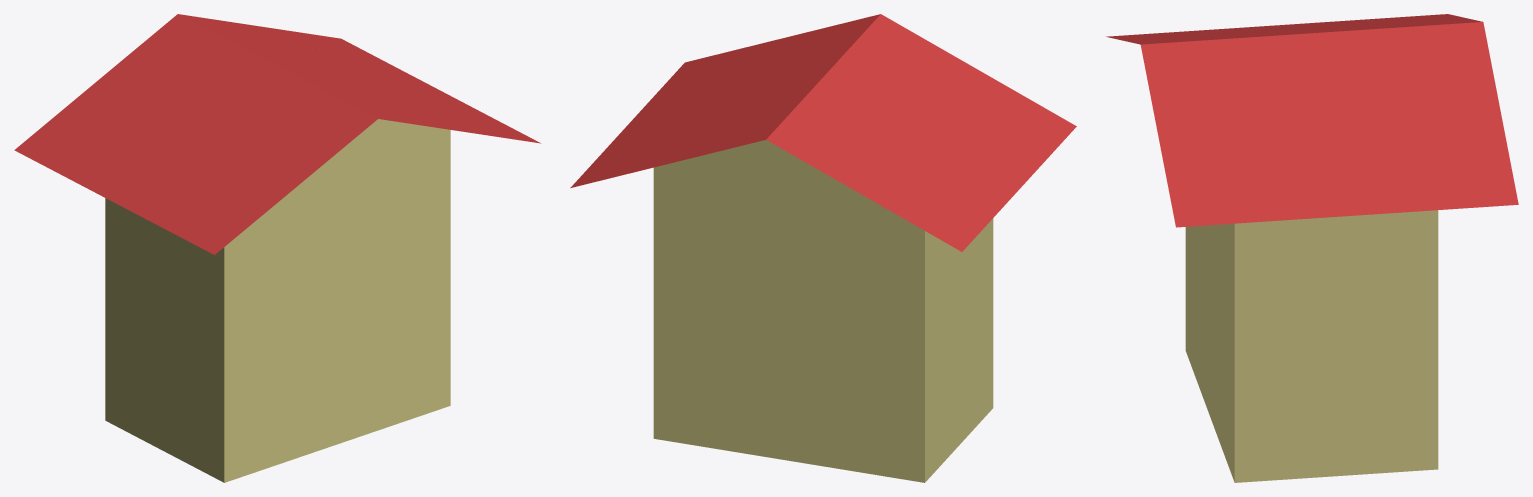
The picture shows the model from 3 angles, left to right: view 1: azimuth 30°, elevation 25°; view 2: azimuth 150°, elevation 25°; view 3: azimuth 270°, elevation 25°; orthographic projection. The views are drawn at different scales.
Visible parts, largest first — view 1: group_5, group_4, group_3; view 2: group_5, group_4, group_3; view 3: group_5, group_4, group_3.
Boxes of the visible parts, x1,y1,x2,y2 form: group_5: (105,119,450,482); group_4: (14,14,541,254); group_3: (28,14,449,254); group_5: (653,140,993,482); group_4: (570,14,1076,251); group_3: (654,14,1052,251); group_5: (1185,210,1438,482); group_4: (1106,14,1518,227); group_3: (1141,21,1516,226).
Bounding box in the file's own units: 14.34 × 11.73 × 11.8.
